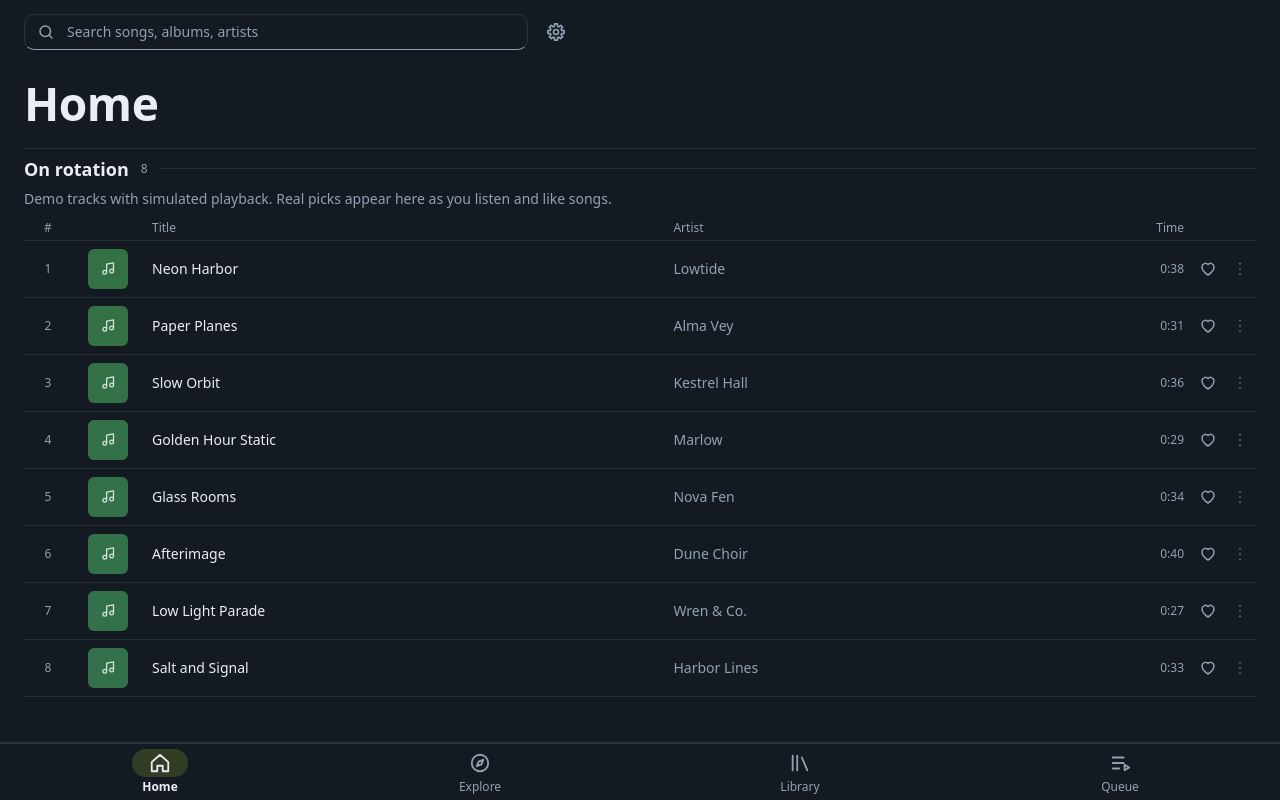
Test case: row menu (in-page sheet) and snackbars › Play next / Add to queue go to the backend and confirm with a snackbar
Expected: the text "Neon Harbor" is shown, [152, 259, 238, 278]
Click the button named "More options for Glass Rooms". click: (1240,497)
box: [1224, 481, 1256, 513]
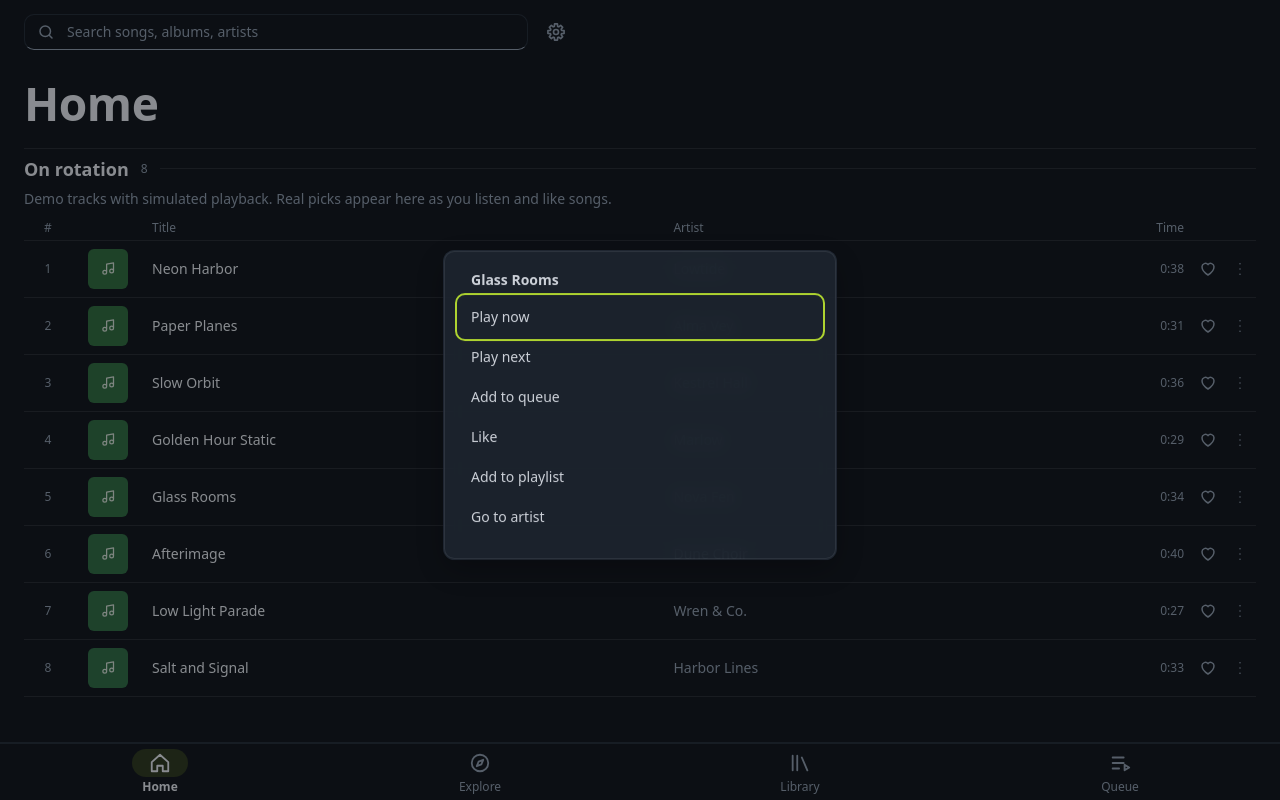
Expected: the dialog "Glass Rooms" is shown, [444, 247, 836, 554]
Click the button "Add to queue". click: (515,392)
box: [459, 372, 821, 412]
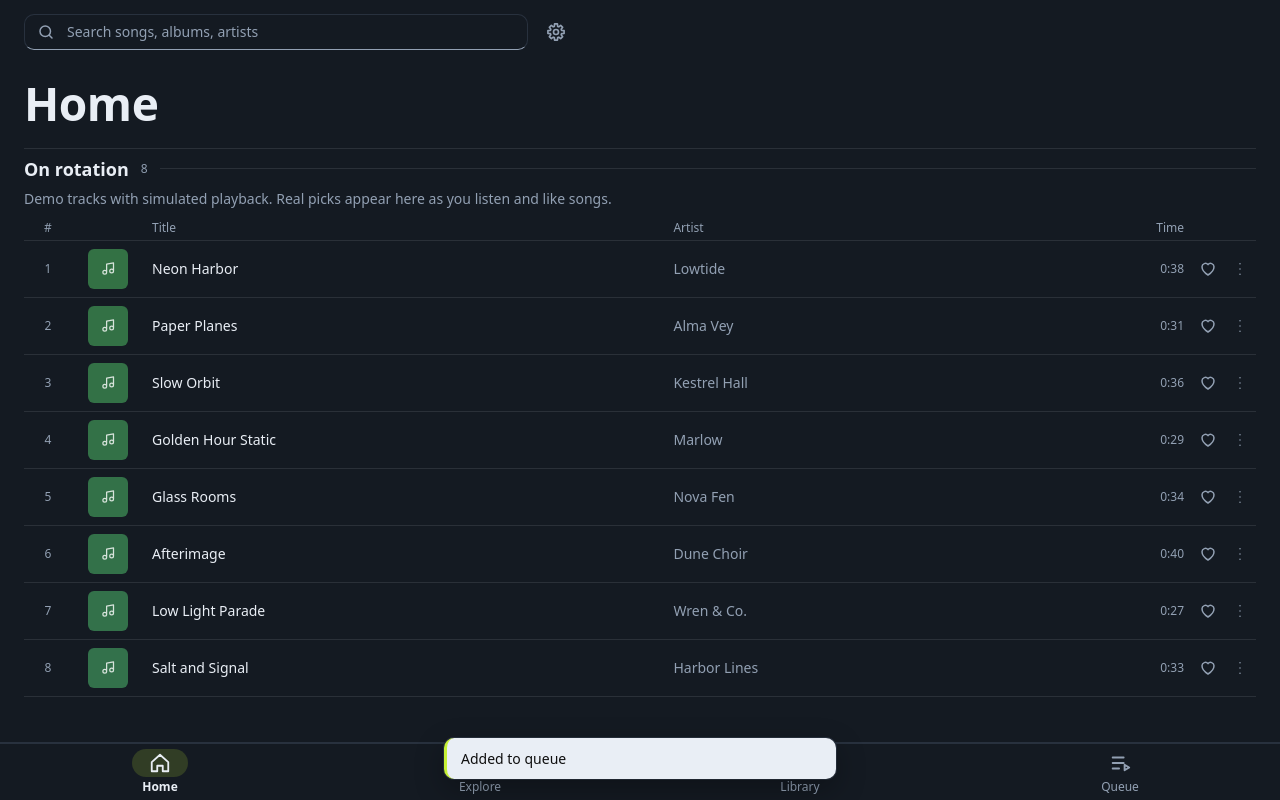
Expected: the text "Added to queue" is shown, [461, 748, 566, 768]
